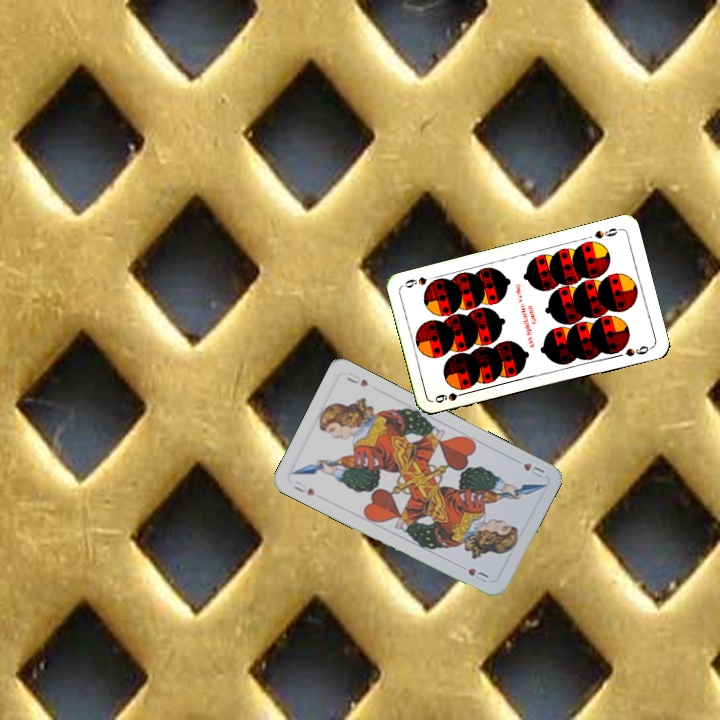HU: (289, 477, 318, 498), (519, 459, 547, 480)
S9: (430, 388, 471, 406), (591, 224, 623, 241)
